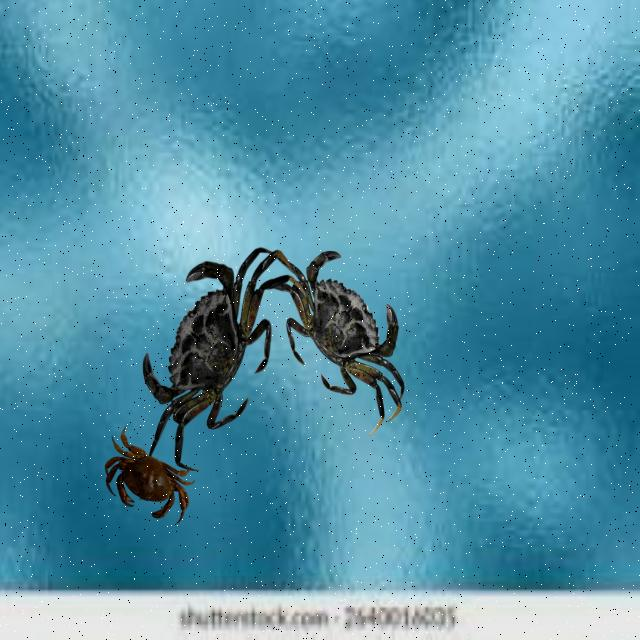European_Green_Crab: (108, 201, 325, 486), (261, 225, 434, 450)
